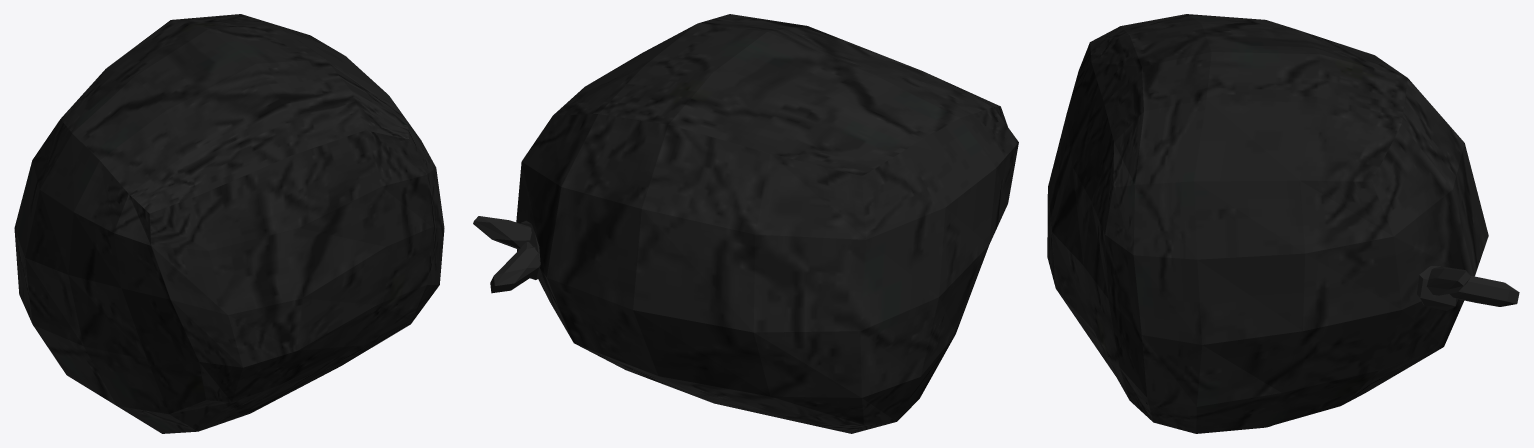
File: strProp_25.glb
The picture shows the model from 3 angles, left to right: view 1: azimuth 30°, elevation 25°; view 2: azimuth 150°, elevation 25°; view 3: azimuth 270°, elevation 25°; orthographic projection. The views are drawn at different scales.
Visible parts, largest first — view 1: geometry_0; view 2: geometry_0; view 3: geometry_0.
Boxes of the visible parts, left/top/right/bottom form: geometry_0: left=14, top=14, right=444, bottom=433; geometry_0: left=473, top=14, right=1018, bottom=433; geometry_0: left=1047, top=14, right=1519, bottom=433.
Size of the model in its own units: 0.5444 by 0.4793 by 0.5427.
Materials: 1 (1 with a texture image).
